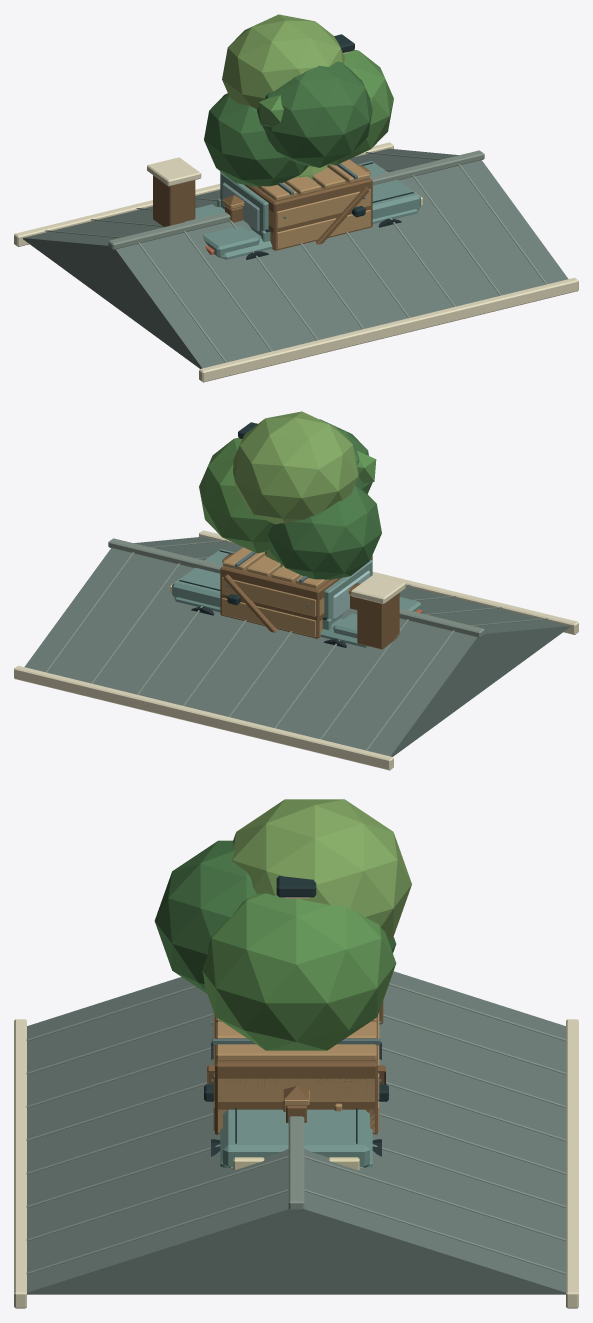
The model's file is brightfield-props.glb.
3 renders of one model, top to bottom at view 1: azimuth 30°, elevation 25°; view 2: azimuth 150°, elevation 25°; view 3: azimuth 270°, elevation 25°, orthographic. The views are drawn at different scales.
Visible parts, largest first — view 1: roof_module_roof, tree_round_green, roof_module_cream, tree_round_leaf_light, roof_module_roof_light, crate_wood, parked_car_car, tree_round_leaf, crate_wood_dark, roof_module_wood_dark, parked_car_glass; view 2: roof_module_roof, tree_round_leaf_light, roof_module_cream, tree_round_green, roof_module_roof_light, tree_round_leaf, crate_wood, parked_car_car, crate_wood_dark, roof_module_wood_dark, parked_car_glass; view 3: roof_module_roof, tree_round_leaf, tree_round_leaf_light, roof_module_roof_light, tree_round_green, roof_module_cream, crate_wood, parked_car_car, crate_wood_dark, streetlamp_iron.
Part boxes in pixels (left/top/right/bottom): roof_module_roof: left=23, top=148, right=568, bottom=368; tree_round_green: left=204, top=61, right=372, bottom=186; roof_module_cream: left=14, top=142, right=578, bottom=382; tree_round_leaf_light: left=222, top=14, right=344, bottom=109; roof_module_roof_light: left=45, top=150, right=547, bottom=362; crate_wood: left=257, top=159, right=370, bottom=249; parked_car_car: left=185, top=161, right=420, bottom=259; tree_round_leaf: left=259, top=49, right=393, bottom=165; crate_wood_dark: left=220, top=171, right=372, bottom=250; roof_module_wood_dark: left=153, top=175, right=195, bottom=227; parked_car_glass: left=222, top=182, right=259, bottom=231; roof_module_roof: left=24, top=536, right=569, bottom=756; tree_round_leaf_light: left=233, top=411, right=358, bottom=524; roof_module_cream: left=14, top=530, right=578, bottom=770; tree_round_green: left=268, top=419, right=381, bottom=579; roof_module_roof_light: left=45, top=538, right=547, bottom=750; tree_round_leaf: left=199, top=437, right=376, bottom=553; crate_wood: left=222, top=547, right=328, bottom=637; parked_car_car: left=172, top=549, right=421, bottom=647; crate_wood_dark: left=220, top=555, right=372, bottom=638; roof_module_wood_dark: left=357, top=593, right=399, bottom=649; parked_car_glass: left=333, top=570, right=370, bottom=619; roof_module_roof: left=27, top=971, right=565, bottom=1294; tree_round_leaf: left=202, top=893, right=396, bottom=1050; tree_round_leaf_light: left=232, top=799, right=411, bottom=940; roof_module_roof_light: left=26, top=983, right=566, bottom=1274; tree_round_green: left=154, top=840, right=396, bottom=993; roof_module_cream: left=14, top=1019, right=578, bottom=1308; crate_wood: left=213, top=1012, right=379, bottom=1132; parked_car_car: left=220, top=1109, right=372, bottom=1167; crate_wood_dark: left=207, top=1016, right=385, bottom=1134; streetlamp_iron: left=276, top=875, right=316, bottom=897.
Size of the model in its own units: 247 by 153 by 215.
